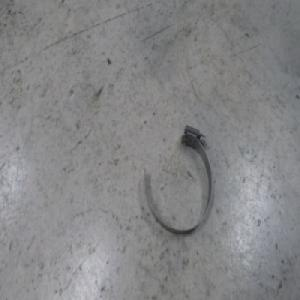AdjustableClamp: (141, 123, 213, 232)
